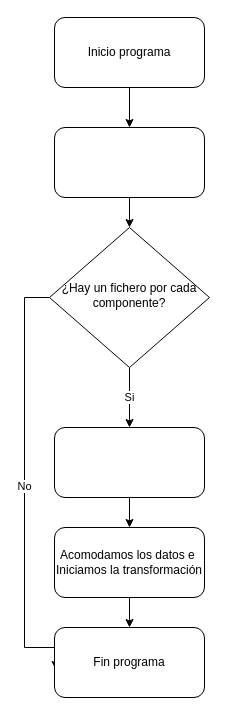
Some shapes in this 227 by 715 pixel diagram are drawn without their labels. The shapes that lost their labels are listed below. From the top down, each one's centre as x and y in pixels, then its label:
(x=129, y=162): Leemos ficheros
(x=129, y=462): Extraemos los cortes deseados
